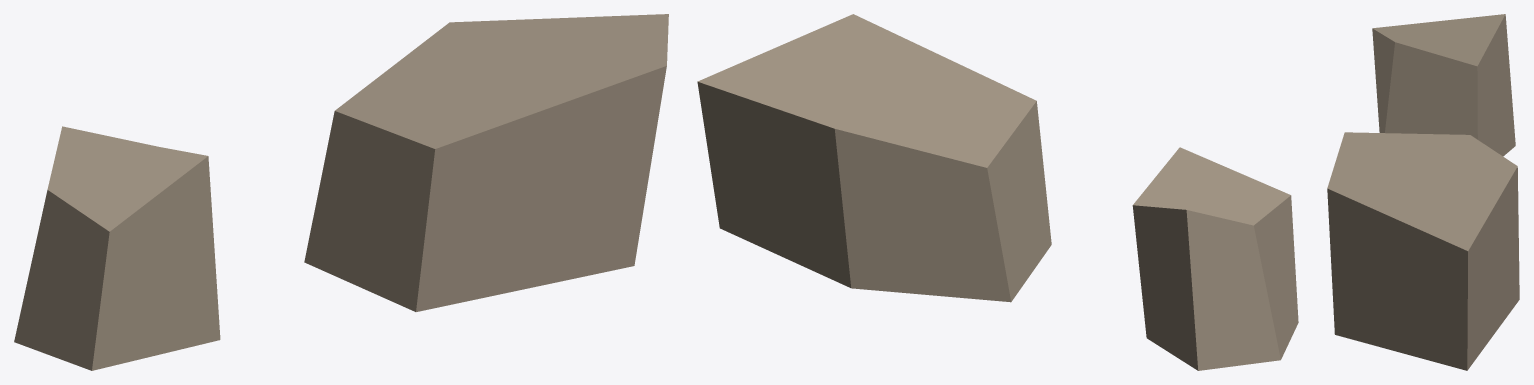
Rendered from detail_002b_reef_rubble.glb.
3 renders of one model, left to right at view 1: azimuth 30°, elevation 25°; view 2: azimuth 150°, elevation 25°; view 3: azimuth 270°, elevation 25°, orthographic. The views are drawn at different scales.
Parts seen in each view (by area): view 1: detail_002b_reef_rubble__mesh; view 2: detail_002b_reef_rubble__mesh; view 3: detail_002b_reef_rubble__mesh.
Boxes of the visible parts, x1,y1,x2,y2 form: detail_002b_reef_rubble__mesh: (14, 14, 668, 370); detail_002b_reef_rubble__mesh: (697, 14, 1298, 370); detail_002b_reef_rubble__mesh: (1327, 14, 1519, 370).
Bounding box in the file's own units: 0.1733 × 0.0493 × 0.0547.
